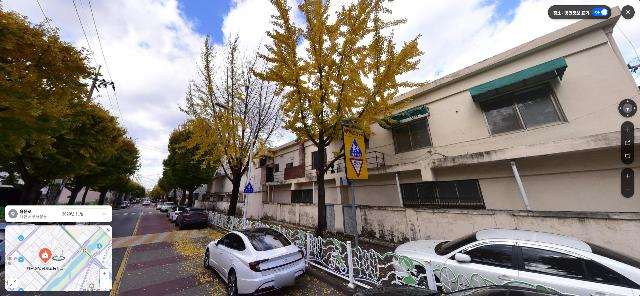ginkgo: (249, 0, 430, 238), (176, 22, 292, 219)
other: (0, 9, 143, 207), (154, 125, 215, 208)
